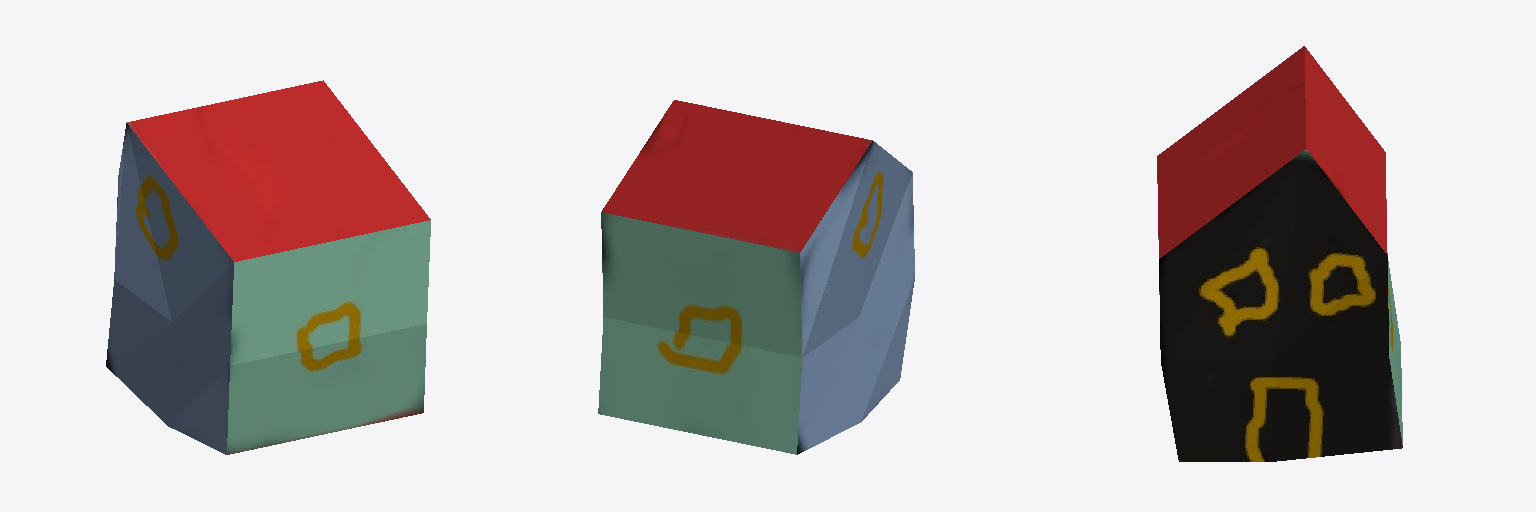
3 renders of one model, left to right at view 1: azimuth 30°, elevation 25°; view 2: azimuth 150°, elevation 25°; view 3: azimuth 270°, elevation 25°, orthographic.
Parts seen in each view (by area): view 1: Suzanne; view 2: Suzanne; view 3: Suzanne.
Boxes of the visible parts, x1=… form: Suzanne: x1=106, y1=80, x2=430, y2=454; Suzanne: x1=598, y1=100, x2=914, y2=454; Suzanne: x1=1157, y1=46, x2=1402, y2=461.
Size of the model in its own units: 2.37 by 2.96 by 2.15.
Materials: 1 (1 with a texture image).